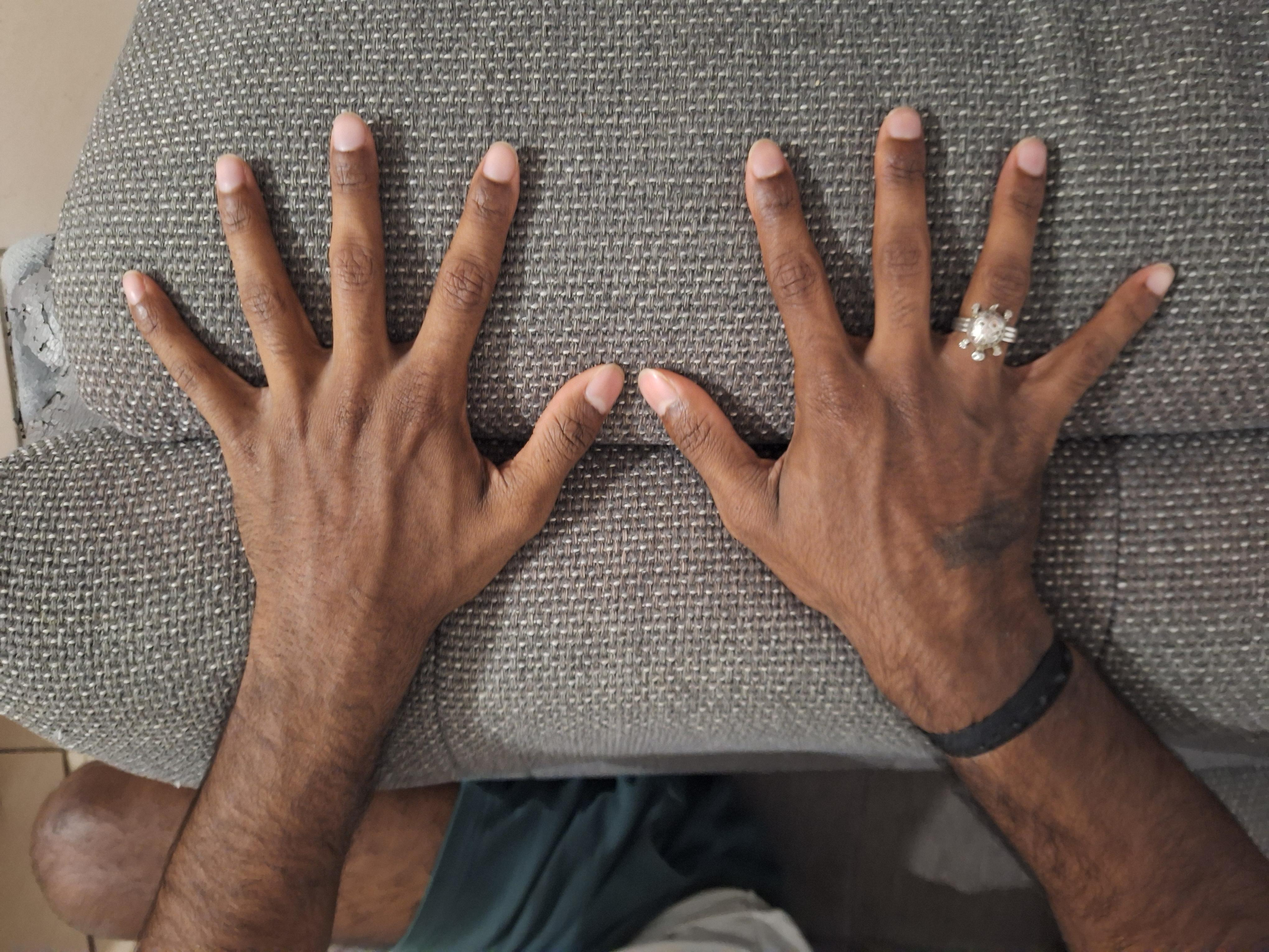Fingernail: (637, 368, 677, 418), (586, 364, 624, 416), (749, 139, 784, 180), (484, 142, 517, 182), (334, 112, 365, 152), (1017, 136, 1046, 176), (216, 154, 245, 192), (887, 107, 921, 139), (1146, 264, 1175, 295), (123, 270, 145, 305)
